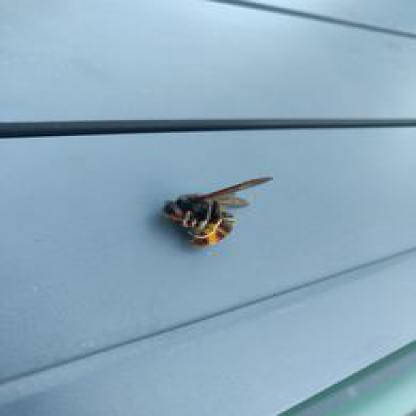Asian Hornet: (160, 176, 276, 248)
